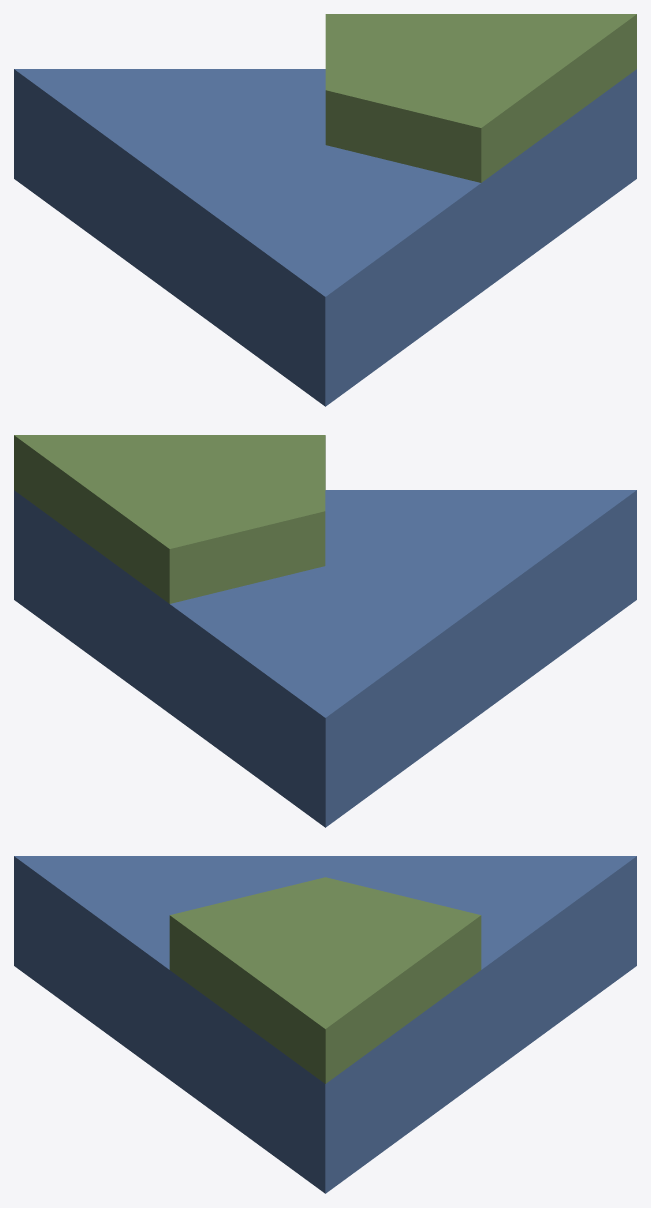
The model's file is tri_10.glb.
3 views of the same model, one above another, from view 1: azimuth 30°, elevation 25°; view 2: azimuth 150°, elevation 25°; view 3: azimuth 270°, elevation 25° (orthographic).
Visible parts, largest first — view 1: tri_10; view 2: tri_10; view 3: tri_10.
Part boxes in pixels (x1,y1,x2,y2): tri_10: (14,14,636,406); tri_10: (14,435,636,827); tri_10: (14,856,636,1193).
Bounding box in the file's own units: 0.7423 × 0.25 × 0.8571.
